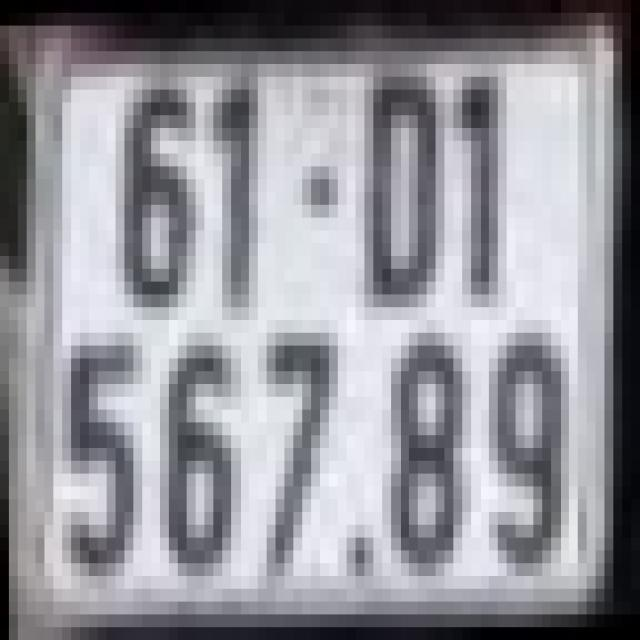1: (453, 76, 507, 294), (213, 90, 258, 308)
5: (63, 346, 134, 576)
6: (160, 346, 231, 576), (124, 90, 196, 308)
7: (258, 333, 338, 576)
8: (391, 333, 462, 576)
9: (489, 332, 569, 564)
D: (364, 76, 444, 308)
